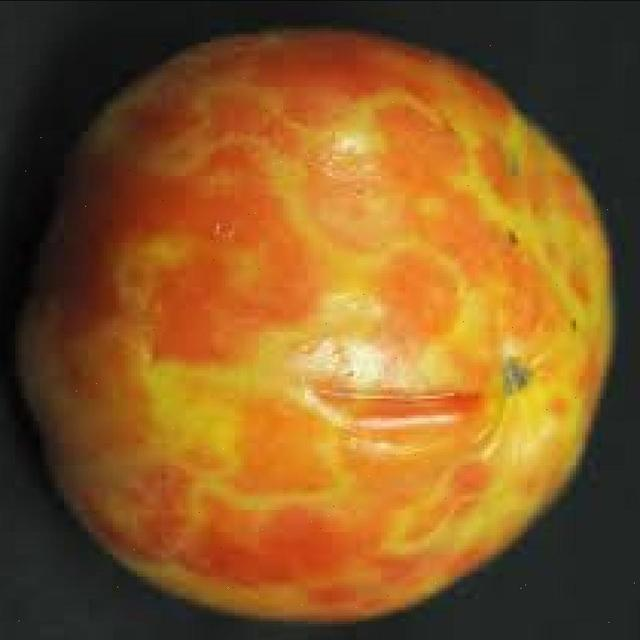Spotted wilt Virus Fruit: (65, 211, 333, 620)
